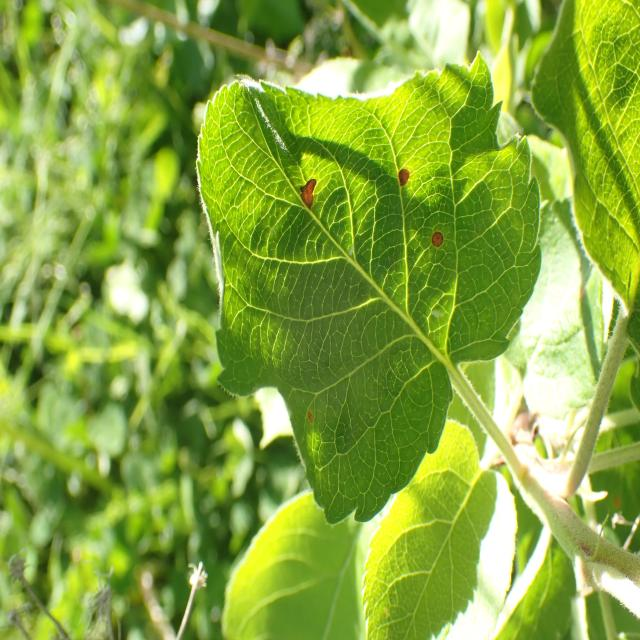Black Rot: (293, 151, 331, 242), (386, 144, 421, 197), (420, 221, 450, 261), (299, 400, 325, 429)
